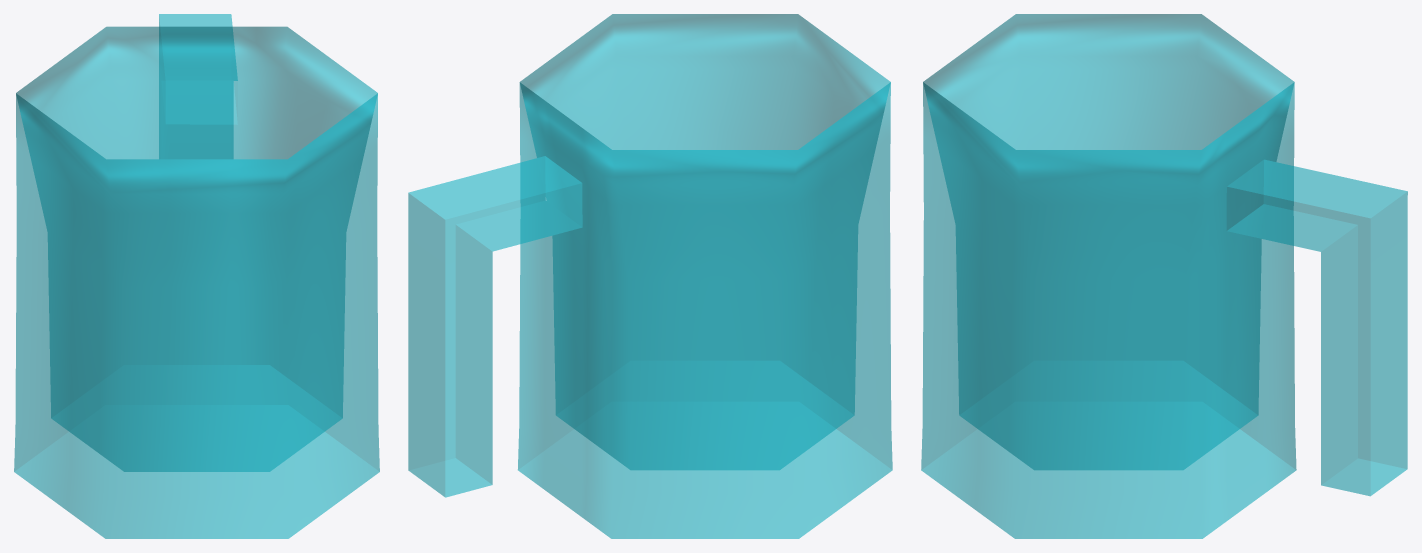
Rendered from Bar Mug.fbx.
3 renders of one model, left to right at view 1: azimuth 30°, elevation 25°; view 2: azimuth 150°, elevation 25°; view 3: azimuth 270°, elevation 25°, orthographic. The views are drawn at different scales.
Parts seen in each view (by area): view 1: nurbsToPoly2; view 2: nurbsToPoly2; view 3: nurbsToPoly2.
Boxes of the visible parts, box(x1,y1,x2,y2) form: nurbsToPoly2: box(14, 14, 379, 538); nurbsToPoly2: box(408, 14, 892, 538); nurbsToPoly2: box(921, 14, 1407, 538).
Size of the model in its own units: 1.56 by 1.89 by 2.15.
